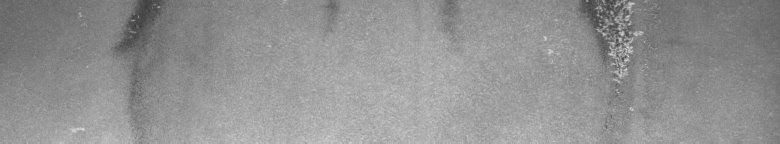hc: (543, 4, 648, 128)
